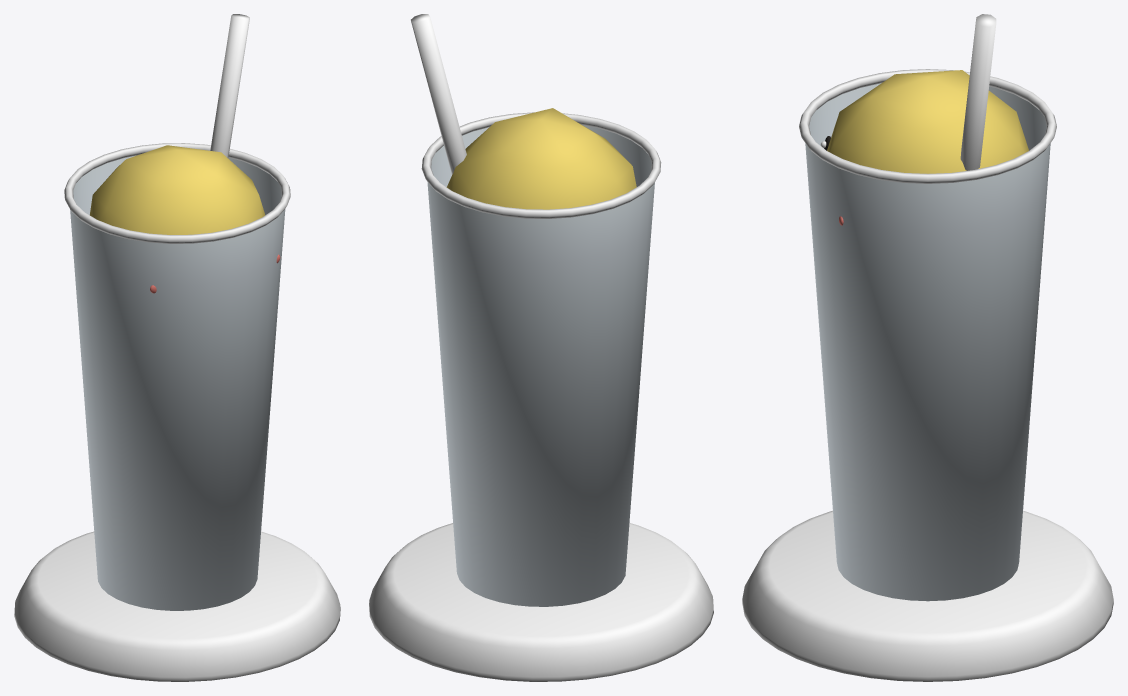
File: terremoto-BbmgDl9g.glb
3 renders of one model, left to right at view 1: azimuth 30°, elevation 25°; view 2: azimuth 150°, elevation 25°; view 3: azimuth 270°, elevation 25°, orthographic. The views are drawn at different scales.
Parts seen in each view (by area): view 1: Glass, Tint, Body; view 2: Glass, Tint, Body; view 3: Glass, Tint, Body.
Part boxes in pixels (left/top/right/bottom): Glass: left=70, top=155, right=285, bottom=610; Tint: left=14, top=14, right=340, bottom=681; Body: left=64, top=143, right=290, bottom=293; Glass: left=427, top=125, right=654, bottom=606; Tint: left=369, top=14, right=713, bottom=681; Body: left=421, top=108, right=661, bottom=218; Glass: left=805, top=83, right=1050, bottom=601; Tint: left=742, top=14, right=1113, bottom=681; Body: left=799, top=69, right=1056, bottom=225.
Size of the model in its own units: 1.02 by 1.93 by 1.02.
3 materials, 3 textured.
